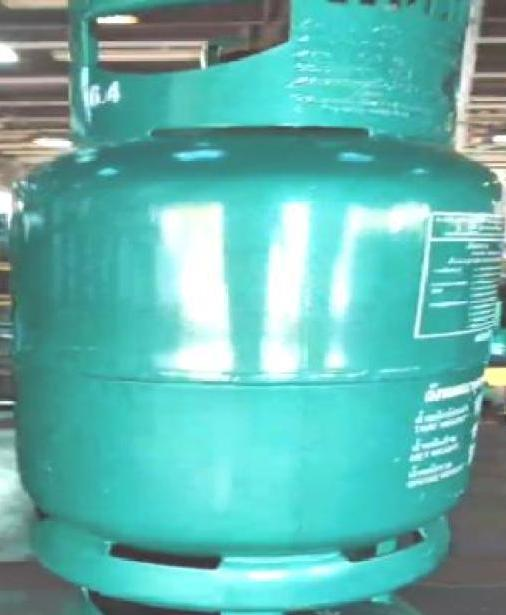cylinder: (1, 0, 506, 615)
